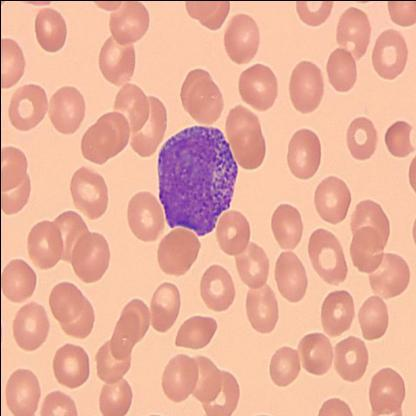Promyelocyte: (154, 126, 238, 238)
